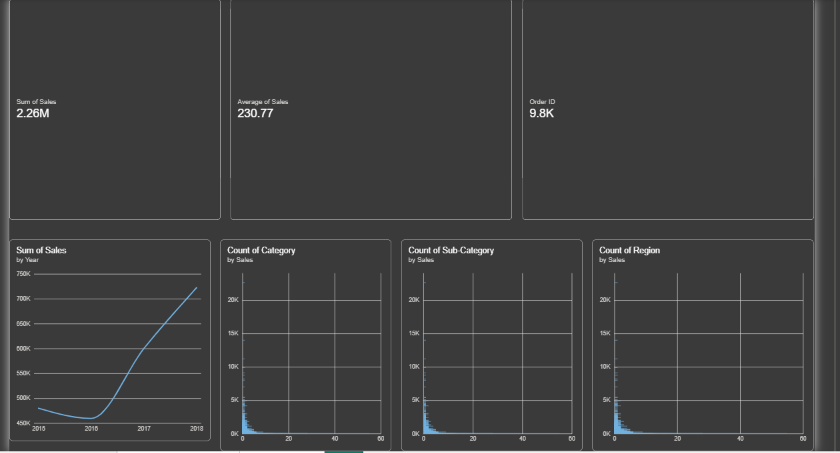

The page's visual inventory and layout, read from the dashboard file:
{"tool":"powerbi","page":{"name":"Sales Overview","canvas":[1920,1080],"ordinal":0},"visuals":[{"type":"cardVisual","fields":{"Data":["Sum(Superstore_Sales.Sales)"]},"box":[0,0,504,528],"z":0},{"type":"cardVisual","fields":{"Data":["Avg(Superstore_Sales.Sales)"]},"box":[528,0,672,528],"z":1000},{"type":"cardVisual","fields":{"Data":["CountNonNull(Superstore_Sales.Order ID)"]},"box":[1224,0,696,528],"z":2000},{"type":"lineChart","fields":{"Category":["Superstore_Sales.Order Date.Variation.Date Hierarchy.Year","Superstore_Sales.Order Date.Variation.Date Hierarchy.Quarter","Superstore_Sales.Order Date.Variation.Date Hierarchy.Month","Superstore_Sales.Order Date.Variation.Date Hierarchy.Day"],"Y":["Sum(Superstore_Sales.Sales)"]},"box":[0,576,480,480],"z":3000},{"type":"clusteredBarChart","fields":{"Category":["Superstore_Sales.Sales"],"Y":["CountNonNull(Superstore_Sales.Category)"]},"box":[504,576,408,504],"z":3001},{"type":"clusteredBarChart","fields":{"Category":["Superstore_Sales.Sales"],"Y":["CountNonNull(Superstore_Sales.Sub-Category)"]},"box":[936,576,432,504],"z":3002},{"type":"clusteredBarChart","fields":{"Category":["Superstore_Sales.Sales"],"Y":["CountNonNull(Superstore_Sales.Region)"]},"box":[1392,576,528,504],"z":3003}]}

Visuals, with their boxes on the page's 1920x1080 design canvas (x1, y1, x2, y2). These are canvas units, not pixel positions in the 840x453 screenshot, which may show the page scaled, cropped or inside an application window:
cardVisual - Sum(Superstore_Sales.Sales): <bbox>0, 0, 504, 528</bbox>
cardVisual - Avg(Superstore_Sales.Sales): <bbox>528, 0, 1200, 528</bbox>
cardVisual - CountNonNull(Superstore_Sales.Order ID): <bbox>1224, 0, 1920, 528</bbox>
lineChart - Superstore_Sales.Order Date.Variation.Date Hierarchy.Year x Superstore_Sales.Order Date.Variation.Date Hierarchy.Quarter: <bbox>0, 576, 480, 1056</bbox>
clusteredBarChart - Superstore_Sales.Sales x CountNonNull(Superstore_Sales.Category): <bbox>504, 576, 912, 1080</bbox>
clusteredBarChart - Superstore_Sales.Sales x CountNonNull(Superstore_Sales.Sub-Category): <bbox>936, 576, 1368, 1080</bbox>
clusteredBarChart - Superstore_Sales.Sales x CountNonNull(Superstore_Sales.Region): <bbox>1392, 576, 1920, 1080</bbox>
